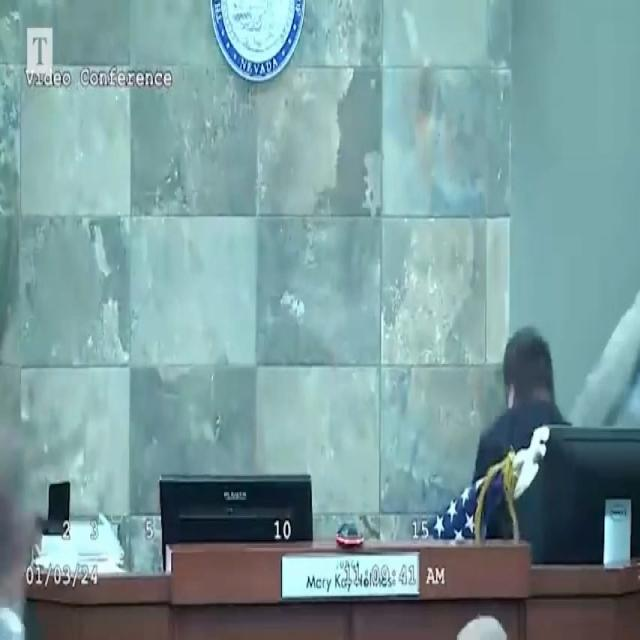non-fight: (472, 325, 582, 539)
